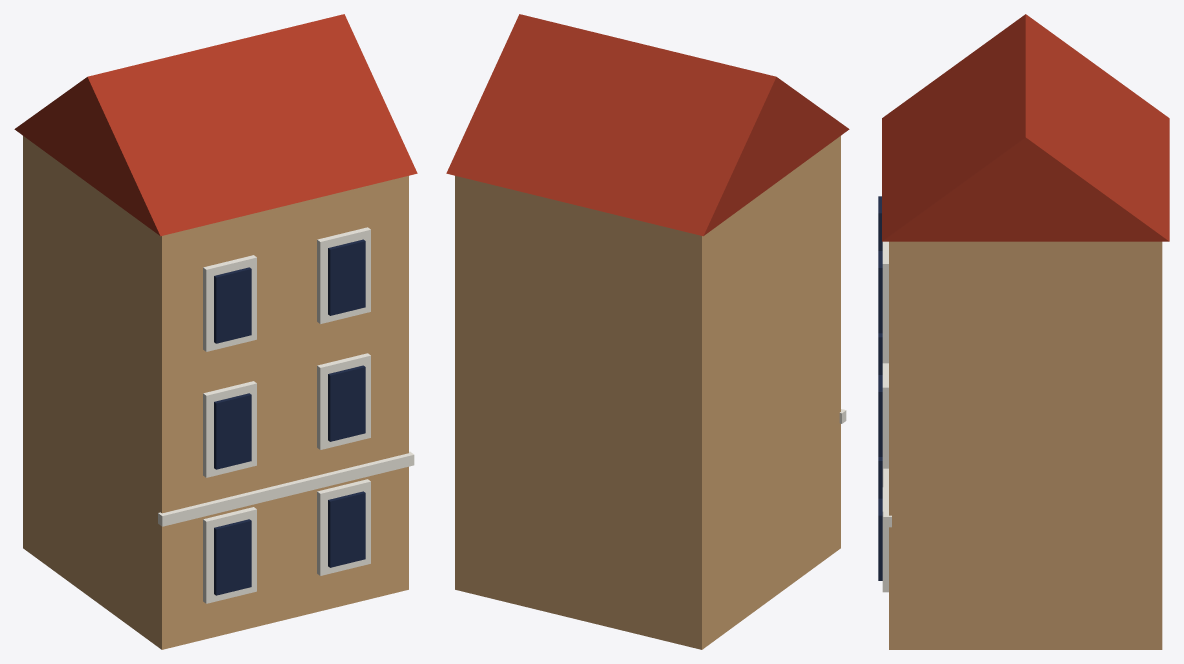
File: kamienica_wwa_0.glb
3 views of the same model, side by side, from view 1: azimuth 30°, elevation 25°; view 2: azimuth 150°, elevation 25°; view 3: azimuth 270°, elevation 25° (orthographic).
Parts seen in each view (by area): view 1: kamienica_wwa_0; view 2: kamienica_wwa_0; view 3: kamienica_wwa_0.
Part boxes in pixels (left/top/right/bottom): kamienica_wwa_0: left=14, top=14, right=417, bottom=649; kamienica_wwa_0: left=446, top=14, right=849, bottom=649; kamienica_wwa_0: left=878, top=14, right=1169, bottom=649.
Size of the model in its own units: 2.03 by 3.95 by 2.02.
